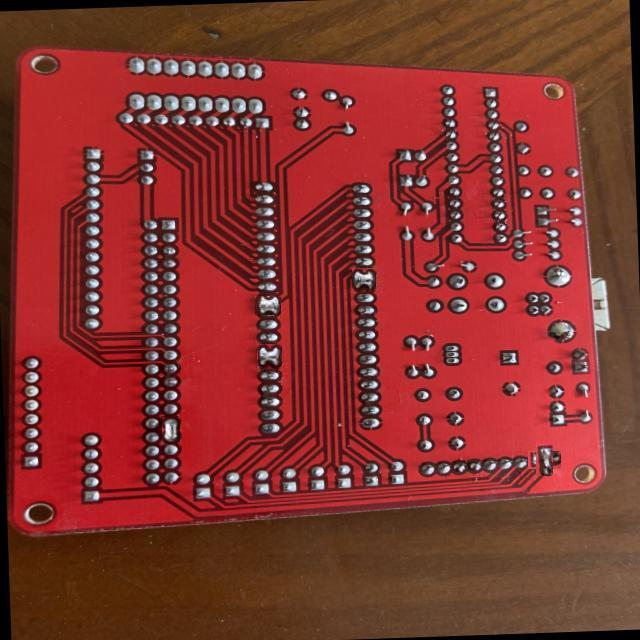damged: (532, 447, 557, 473), (257, 344, 282, 369), (352, 268, 377, 292), (257, 294, 280, 316), (161, 416, 180, 442)
